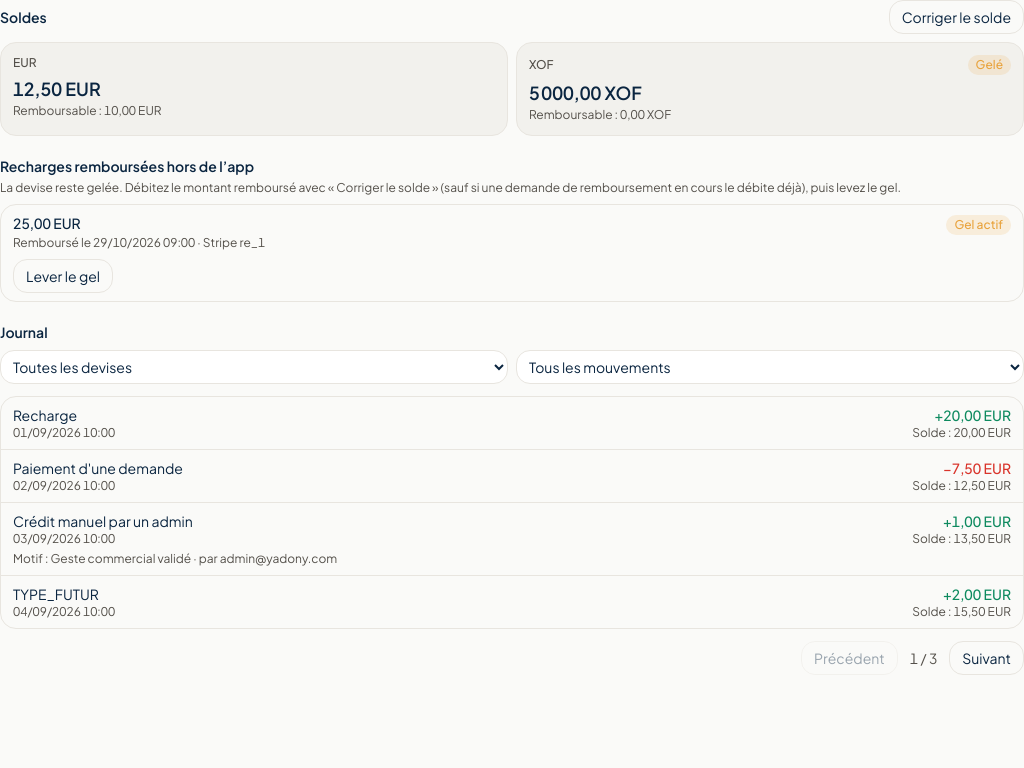
Scenario: UserWalletTab › gels après une recharge remboursée hors de l’app › levée refusée (déjà levé) : message gardé après la relecture
Click the button with test id "wallet-hold-release-h1" at (63, 276), box [13,259,113,293]
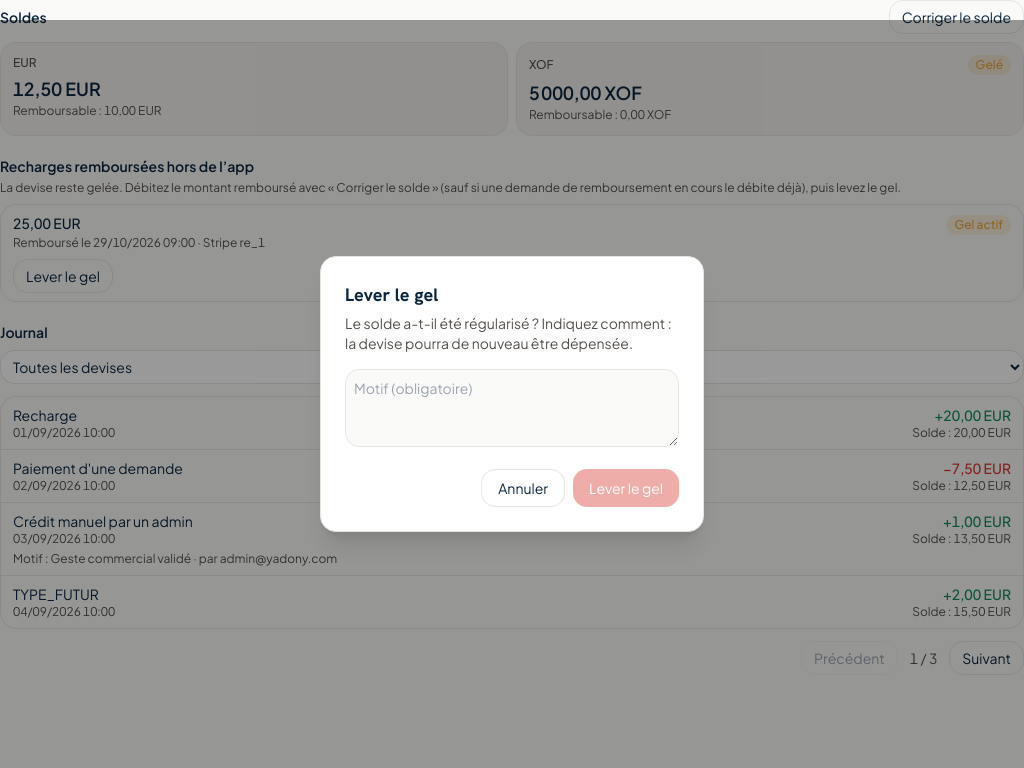
Type "x" into the text box with test id "reason" at (512, 408), box [345,369,679,447]
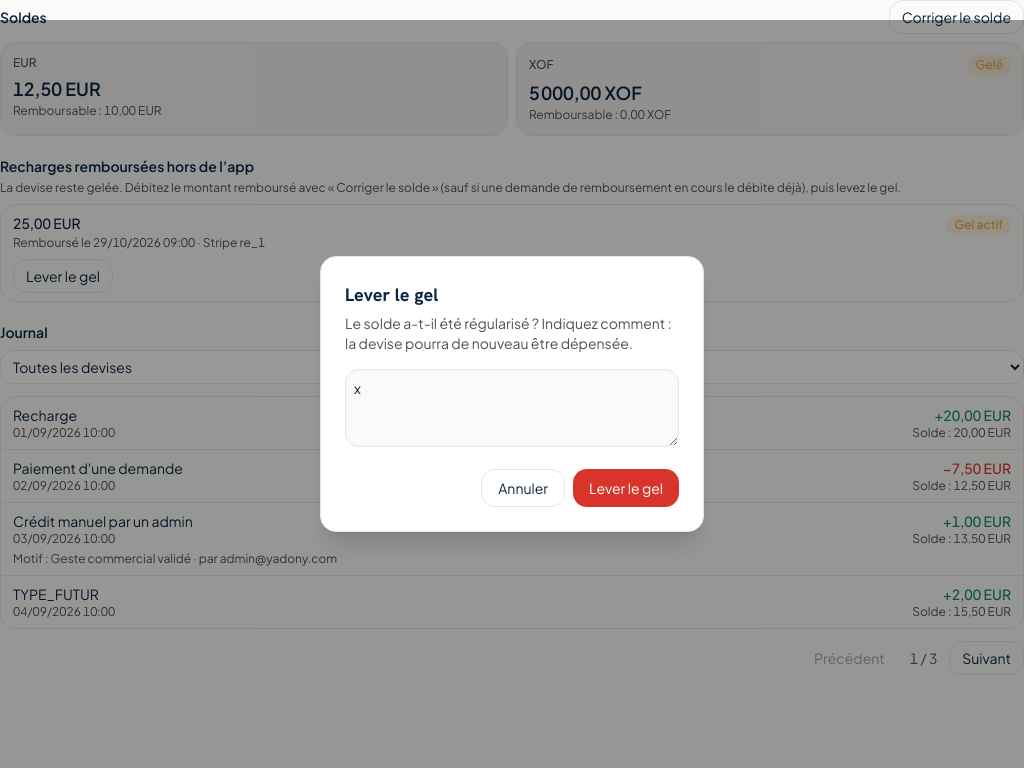
Click the button with test id "confirm" at (626, 488), box [573,469,679,507]
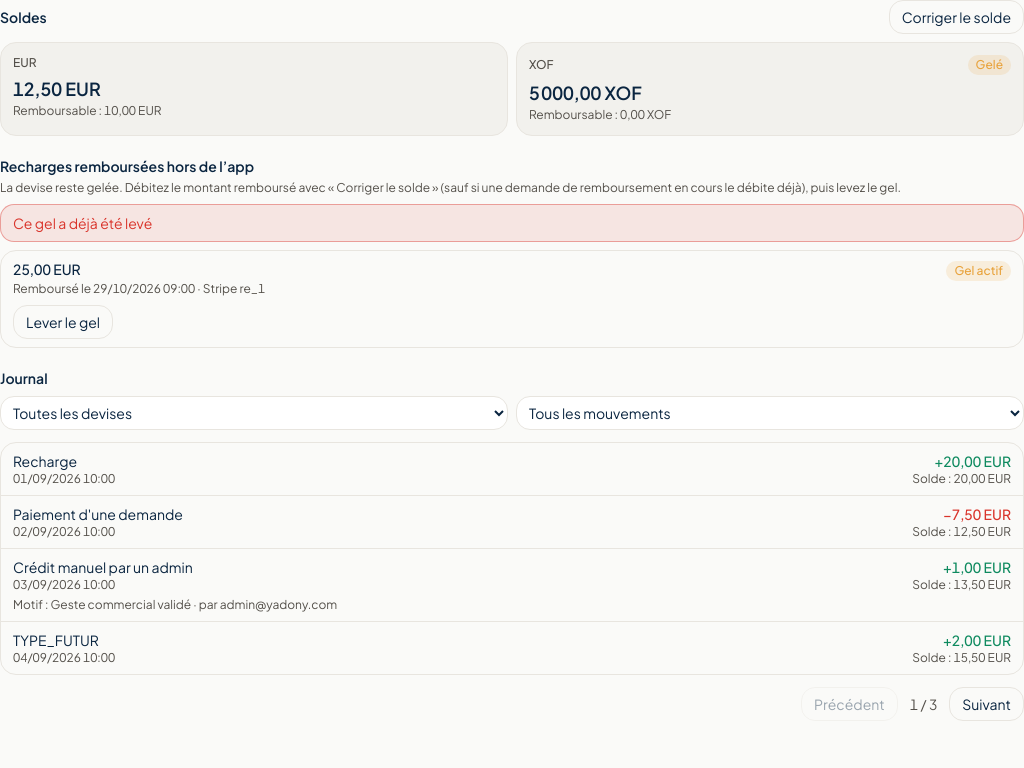
Expected: the message with test id "wallet-holds-error" shows "déjà été levé", [13,214,152,232]
